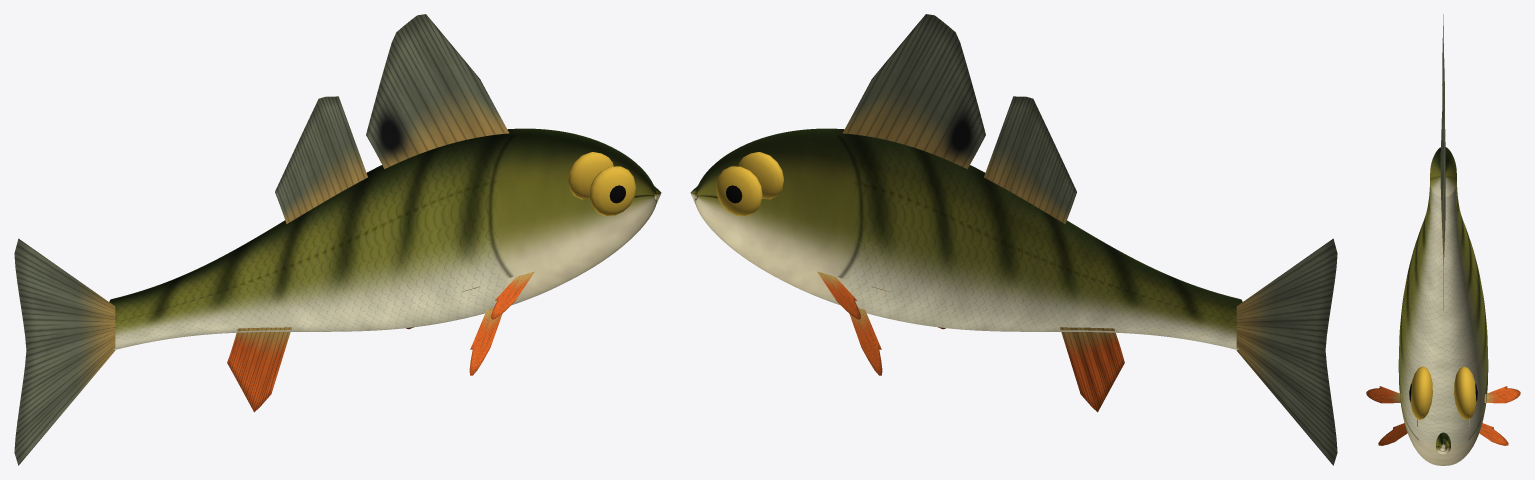
File: fish_perch.gltf
3 views of the same model, side by side, from view 1: azimuth 30°, elevation 25°; view 2: azimuth 150°, elevation 25°; view 3: azimuth 270°, elevation 25° (orthographic).
Parts seen in each view (by area): view 1: fish_perch; view 2: fish_perch; view 3: fish_perch.
Part boxes in pixels (x1,y1,x2,y2): fish_perch: (14,14,661,465); fish_perch: (690,14,1337,465); fish_perch: (1366,14,1520,465).
Bounding box in the file's own units: 0.247 × 0.1303 × 0.0501.
Materials: 7 (5 with a texture image).
